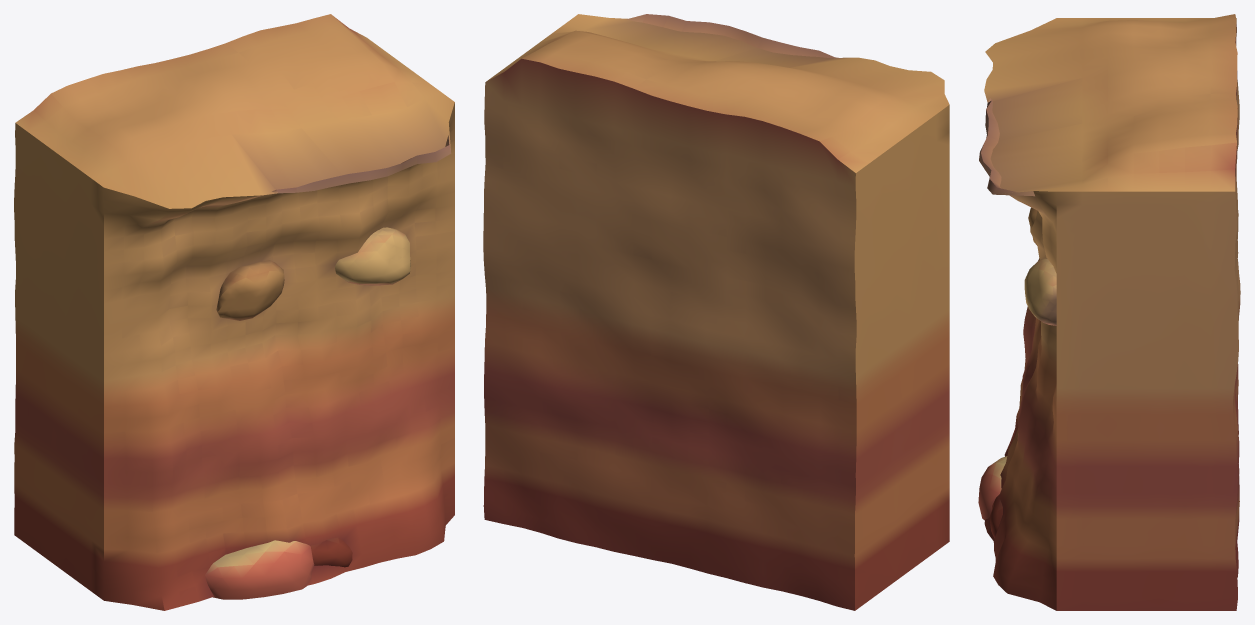
The model's file is amber_cliff_strata_b.glb.
3 renders of one model, left to right at view 1: azimuth 30°, elevation 25°; view 2: azimuth 150°, elevation 25°; view 3: azimuth 270°, elevation 25°, orthographic. The views are drawn at different scales.
Parts seen in each view (by area): view 1: amber_cliff_strata_b; view 2: amber_cliff_strata_b; view 3: amber_cliff_strata_b.
Part boxes in pixels (left/top/right/bottom): amber_cliff_strata_b: left=14, top=14, right=454, bottom=610; amber_cliff_strata_b: left=483, top=14, right=949, bottom=610; amber_cliff_strata_b: left=978, top=14, right=1240, bottom=610.
Bounding box in the file's own units: 16 × 19.58 × 10.2.
